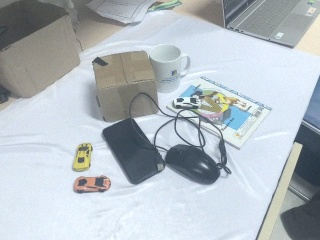book: (169, 74, 278, 151)
box: (1, 1, 83, 101), (93, 49, 160, 122)
cup: (147, 44, 187, 97)
mouse: (164, 142, 220, 186)
phone: (102, 117, 166, 186)
toy_car: (73, 174, 112, 194), (72, 142, 93, 172), (172, 94, 199, 109)
